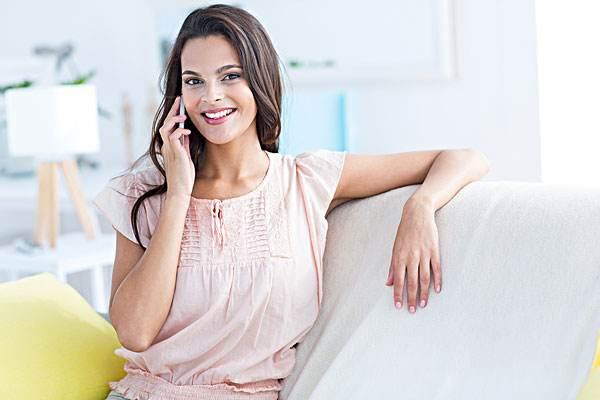calling: (159, 94, 198, 192)
